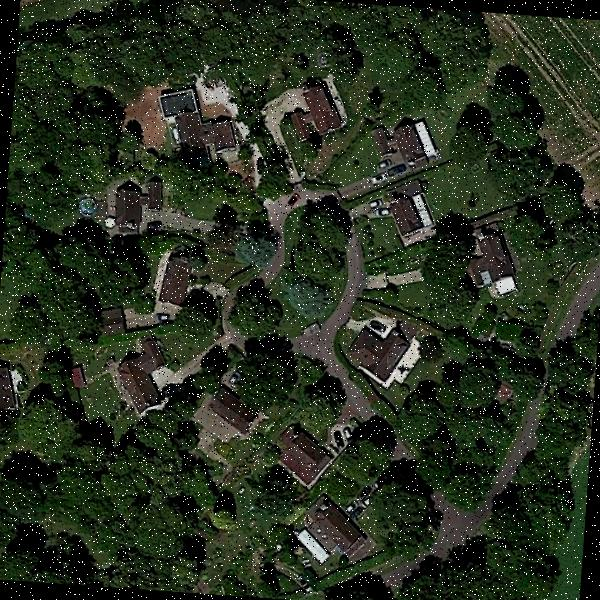Buildings: (165, 98, 237, 159), (349, 318, 407, 386), (115, 339, 170, 406), (204, 388, 256, 446), (294, 80, 340, 142), (370, 120, 436, 162), (307, 505, 360, 556), (384, 181, 424, 246), (280, 428, 326, 481), (478, 233, 517, 294), (113, 185, 158, 226), (157, 256, 194, 304)
